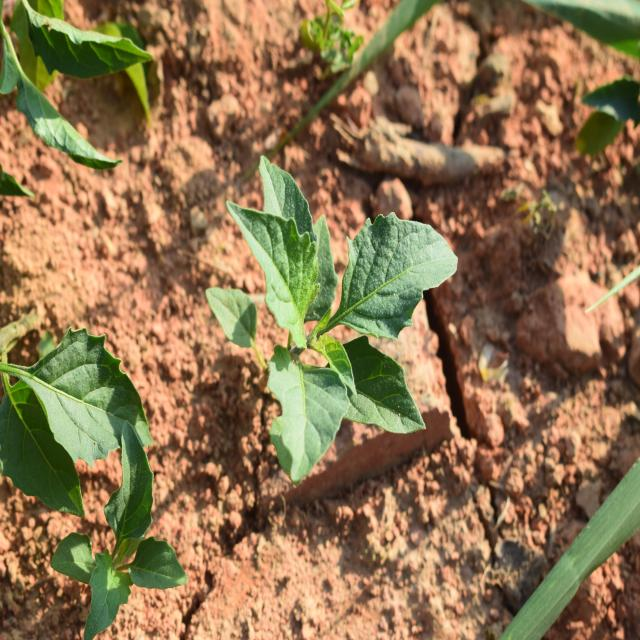Black_nightshade: (207, 150, 458, 472), (76, 439, 196, 637)
